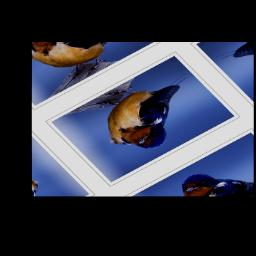Swallow: (77, 59, 225, 163)
